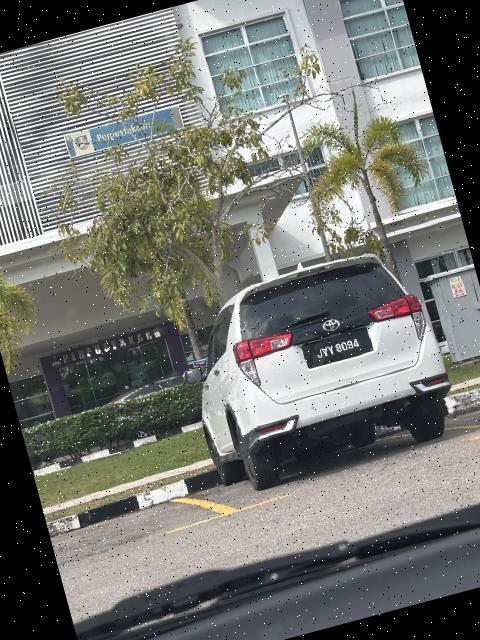JVY8094: (300, 326, 380, 372)
License_Plate: (300, 326, 380, 372)
car: (164, 235, 468, 501)
